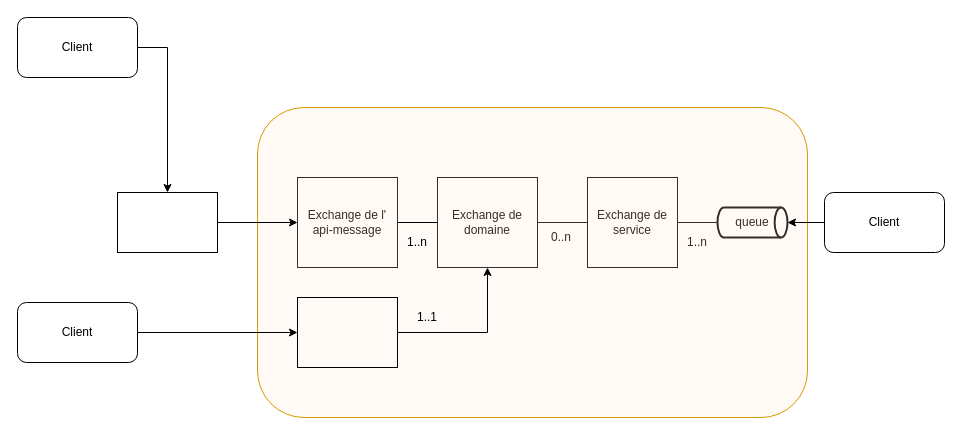
Image size: 962x435. Some labels were removed from this diagram. The shapes that lost their labels are listed below. From the top down, each one's centre as x and y in pixels, then its label:
At (x=167, y=222): "api-message".
At (x=347, y=332): "Exchange spécifique".
